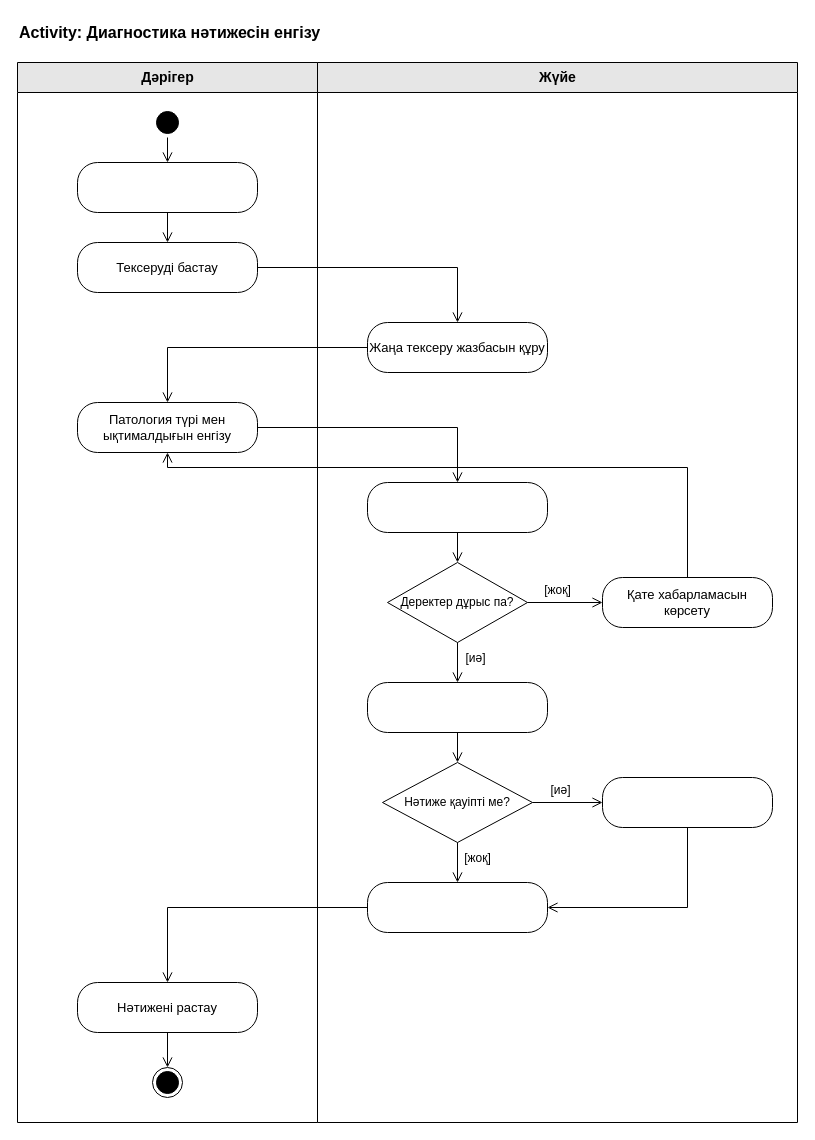
The diagram is 815 pixels wide and 1140 high, and some of its shapes have lost their labels. Here are the shapes that lost their labels. From the top down, the centre of each, then its label:
At pixel 167 187: "Науқасты іздеу".
At pixel 457 507: "Деректерді тексеру".
At pixel 457 707: "Нәтижені сақтау".
At pixel 687 802: "Ескерту көрсету".
At pixel 457 907: "Нәтижені графикте көрсету".
